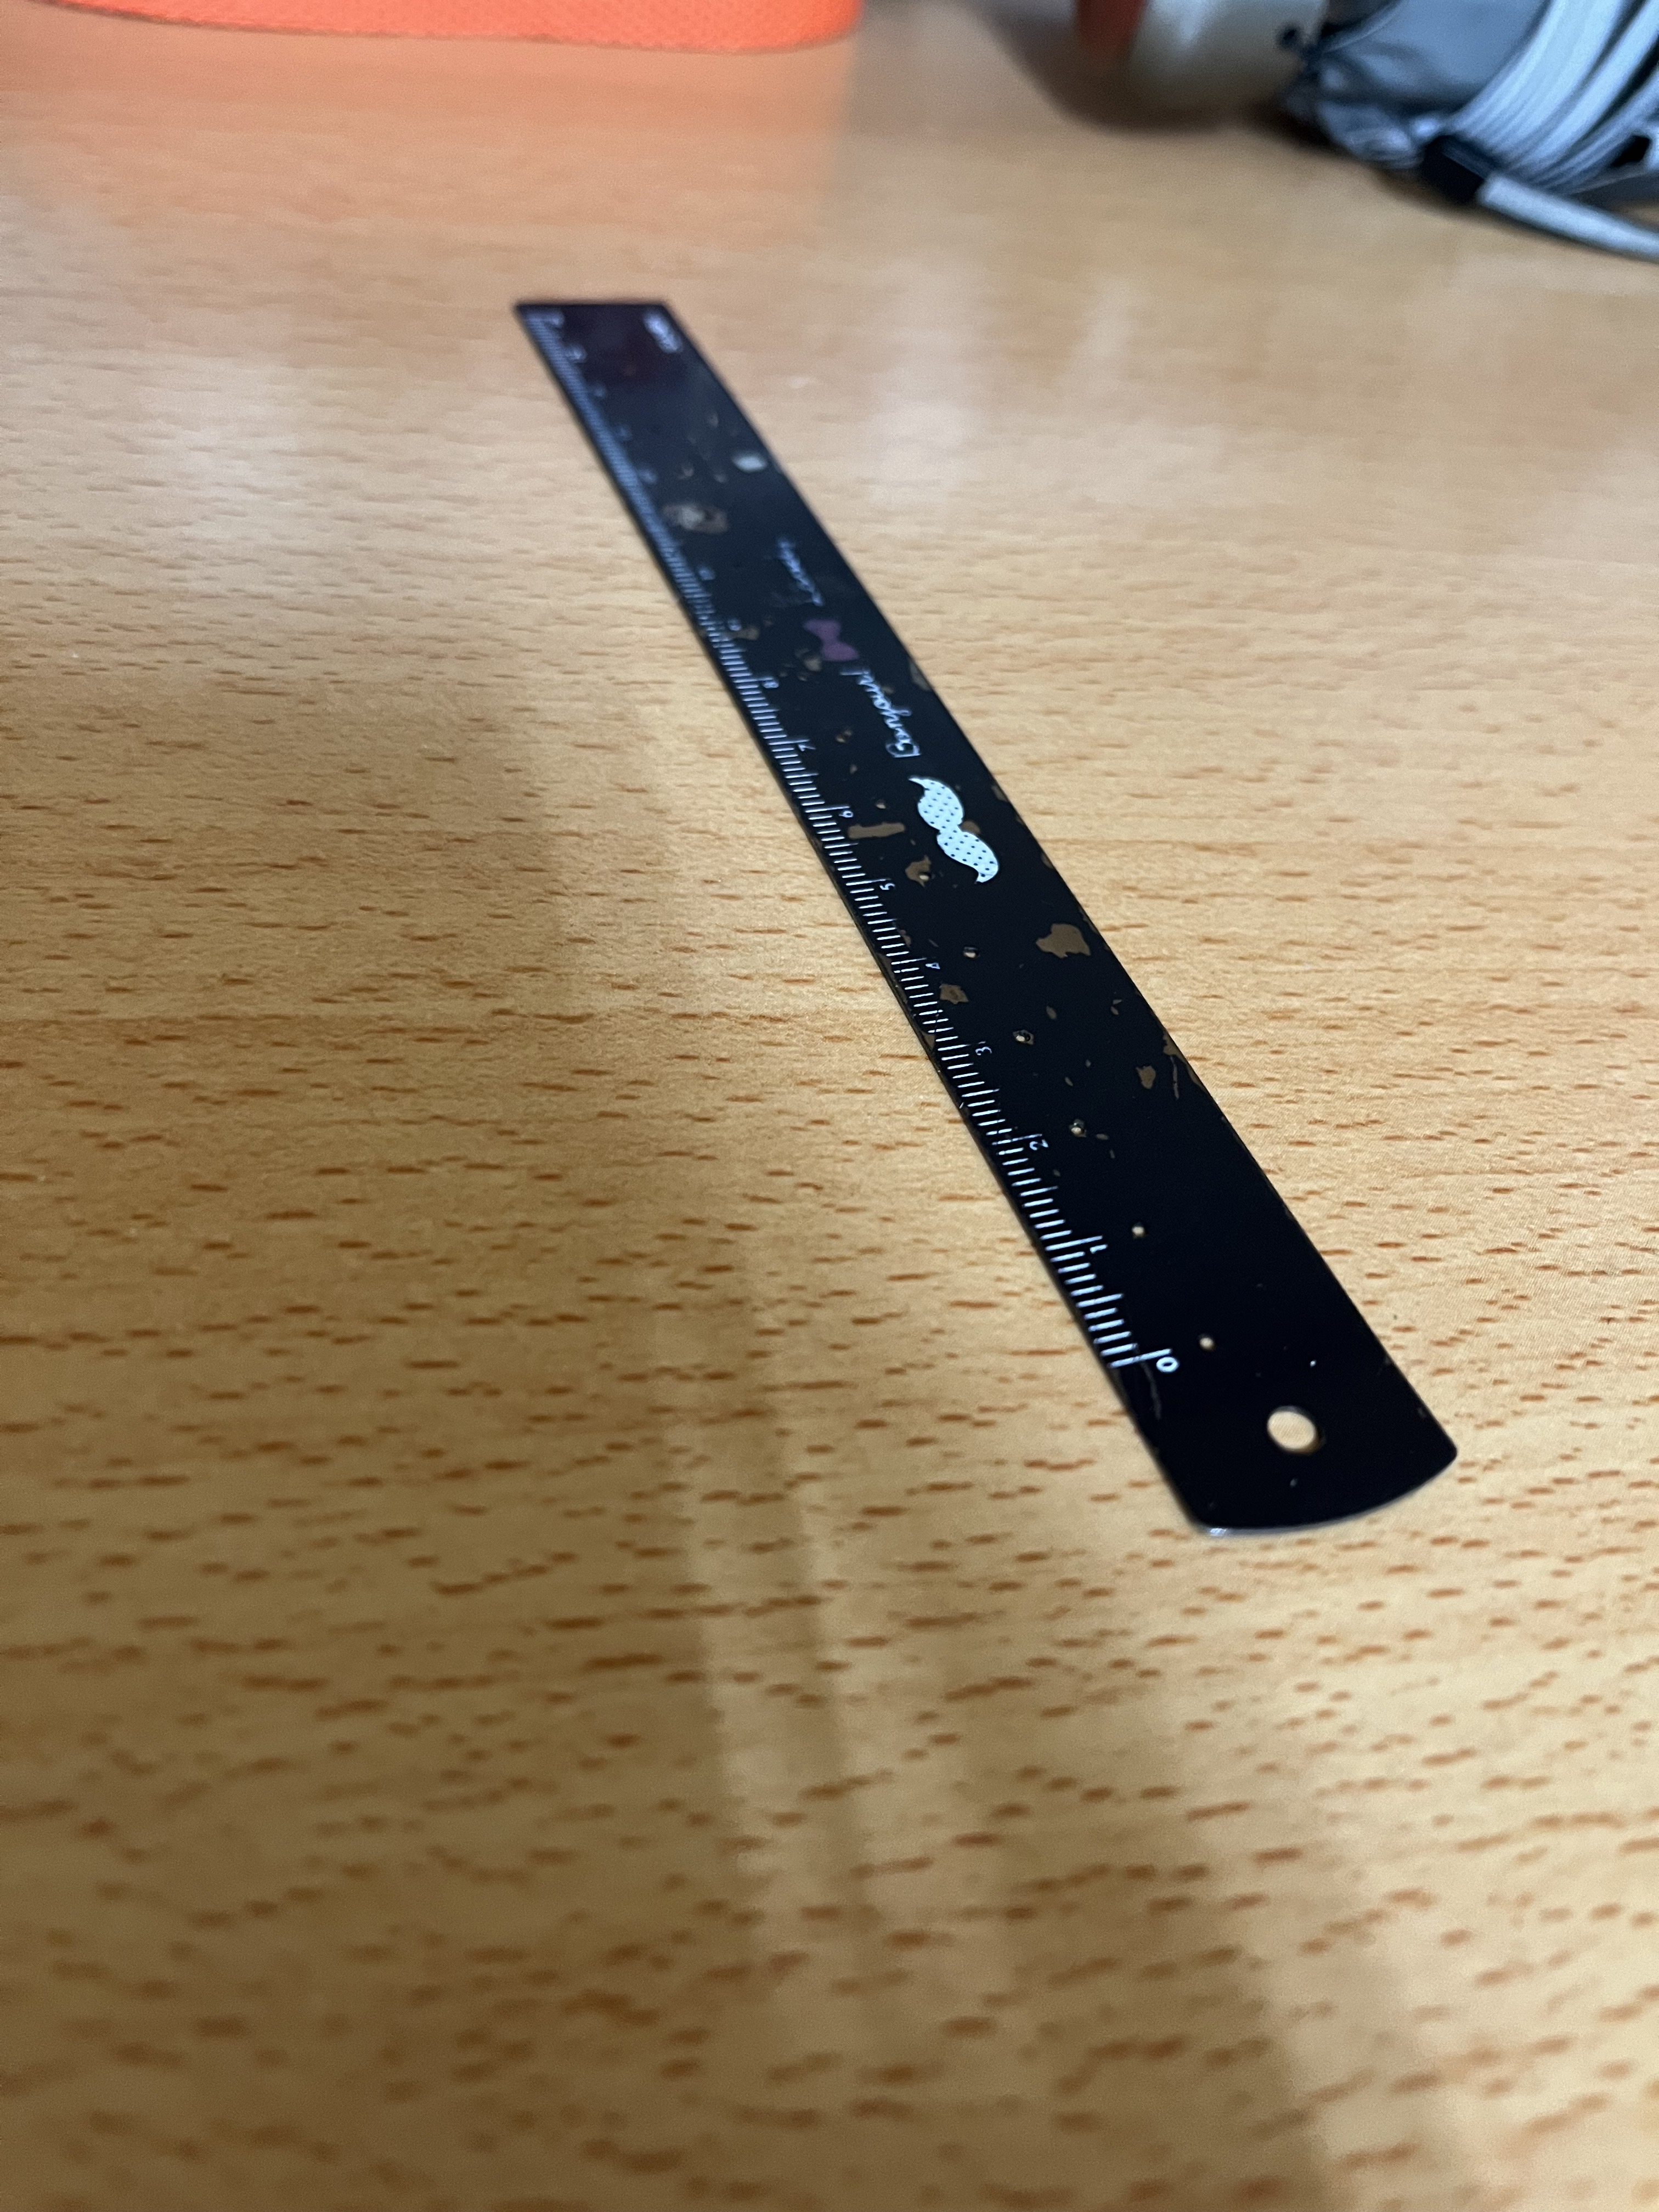ruler: (486, 254, 1499, 1588)
